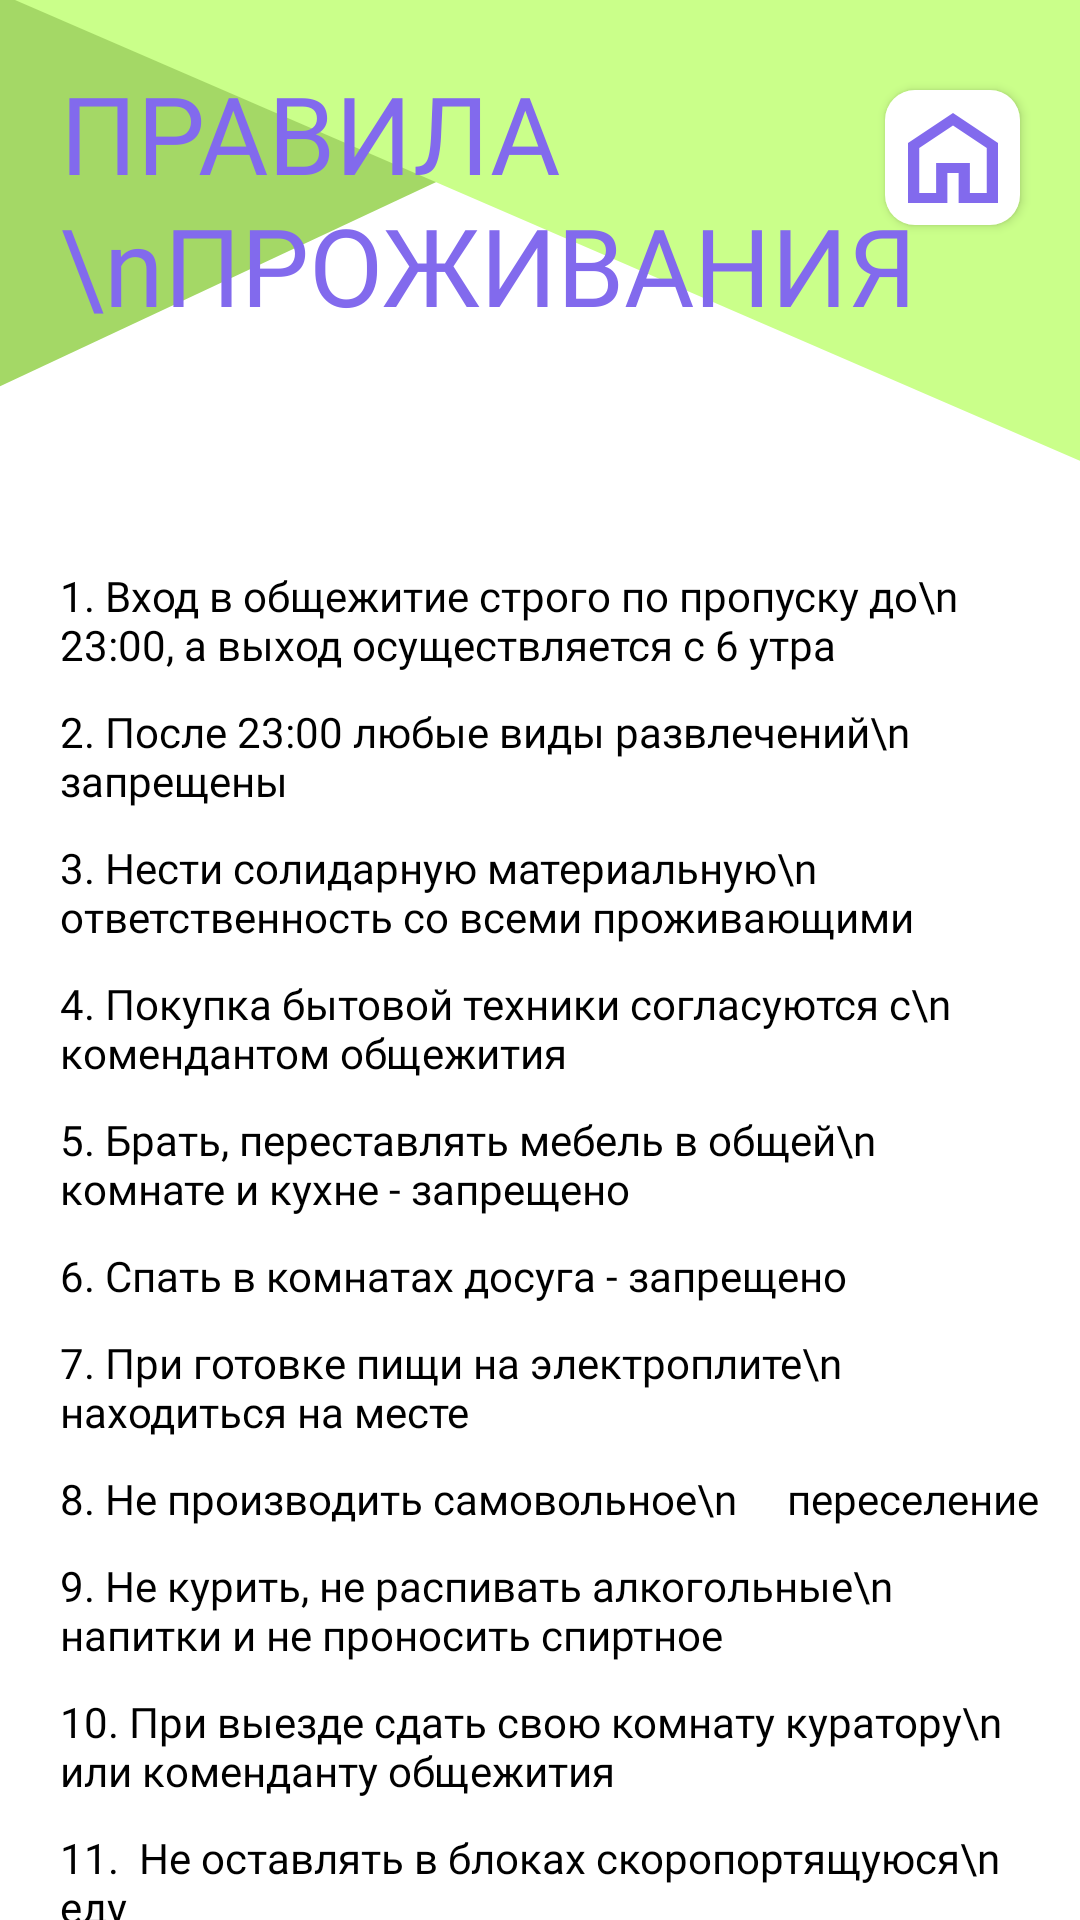

Named icons in this screenshot (1080 × 1920) and their centers, point (x, y):
application home: point (952, 157)
